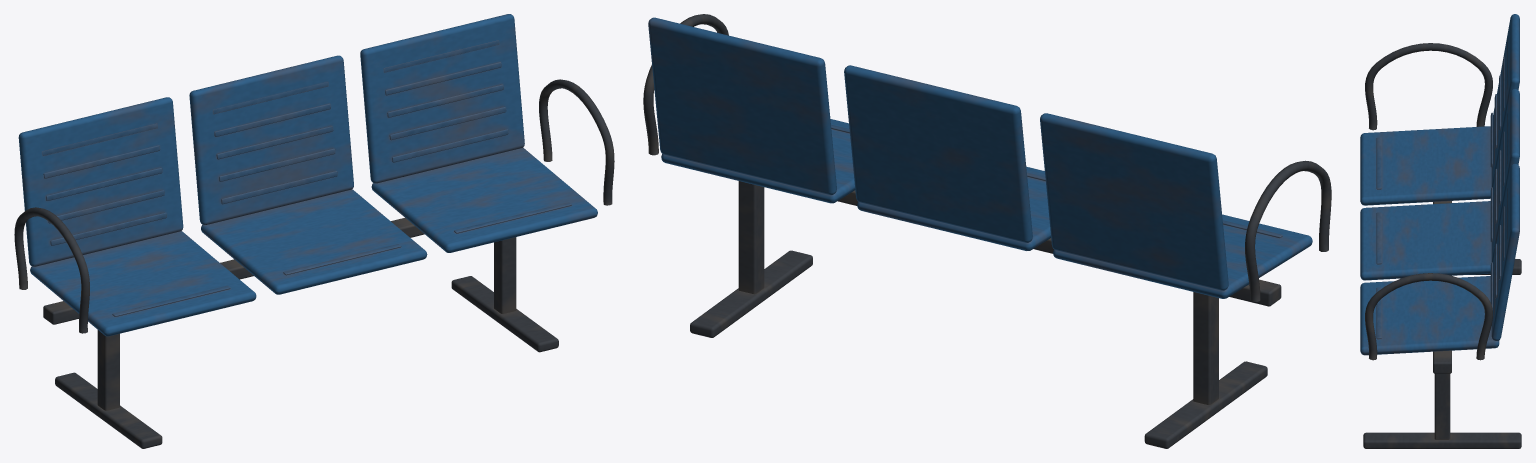
Rendered from kom_lawka.glb.
3 renders of one model, left to right at view 1: azimuth 30°, elevation 25°; view 2: azimuth 150°, elevation 25°; view 3: azimuth 270°, elevation 25°, orthographic. The views are drawn at different scales.
Parts seen in each view (by area): view 1: Lawka; view 2: Lawka; view 3: Lawka.
Part boxes in pixels (x1,y1,x2,y2): Lawka: (14,14,614,448); Lawka: (643,14,1331,448); Lawka: (1360,14,1521,448).
Size of the model in its own units: 1.75 by 0.8277 by 0.5097.
Materials: 1 (1 with a texture image).
